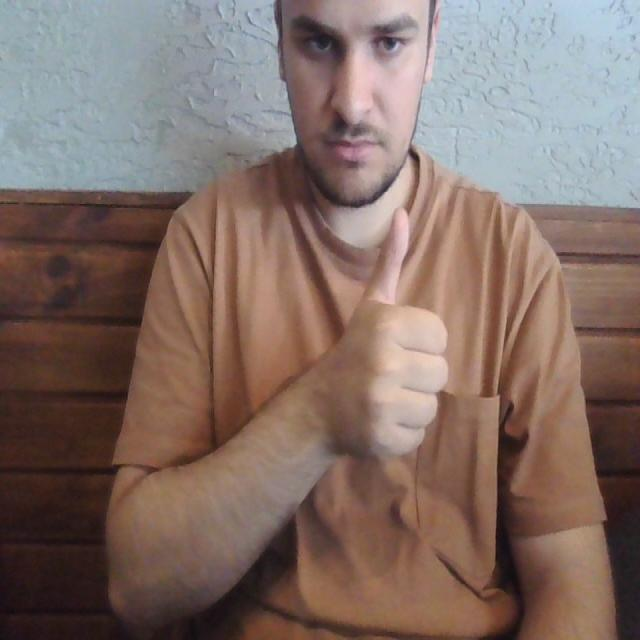Tamam: (324, 196, 456, 469)
